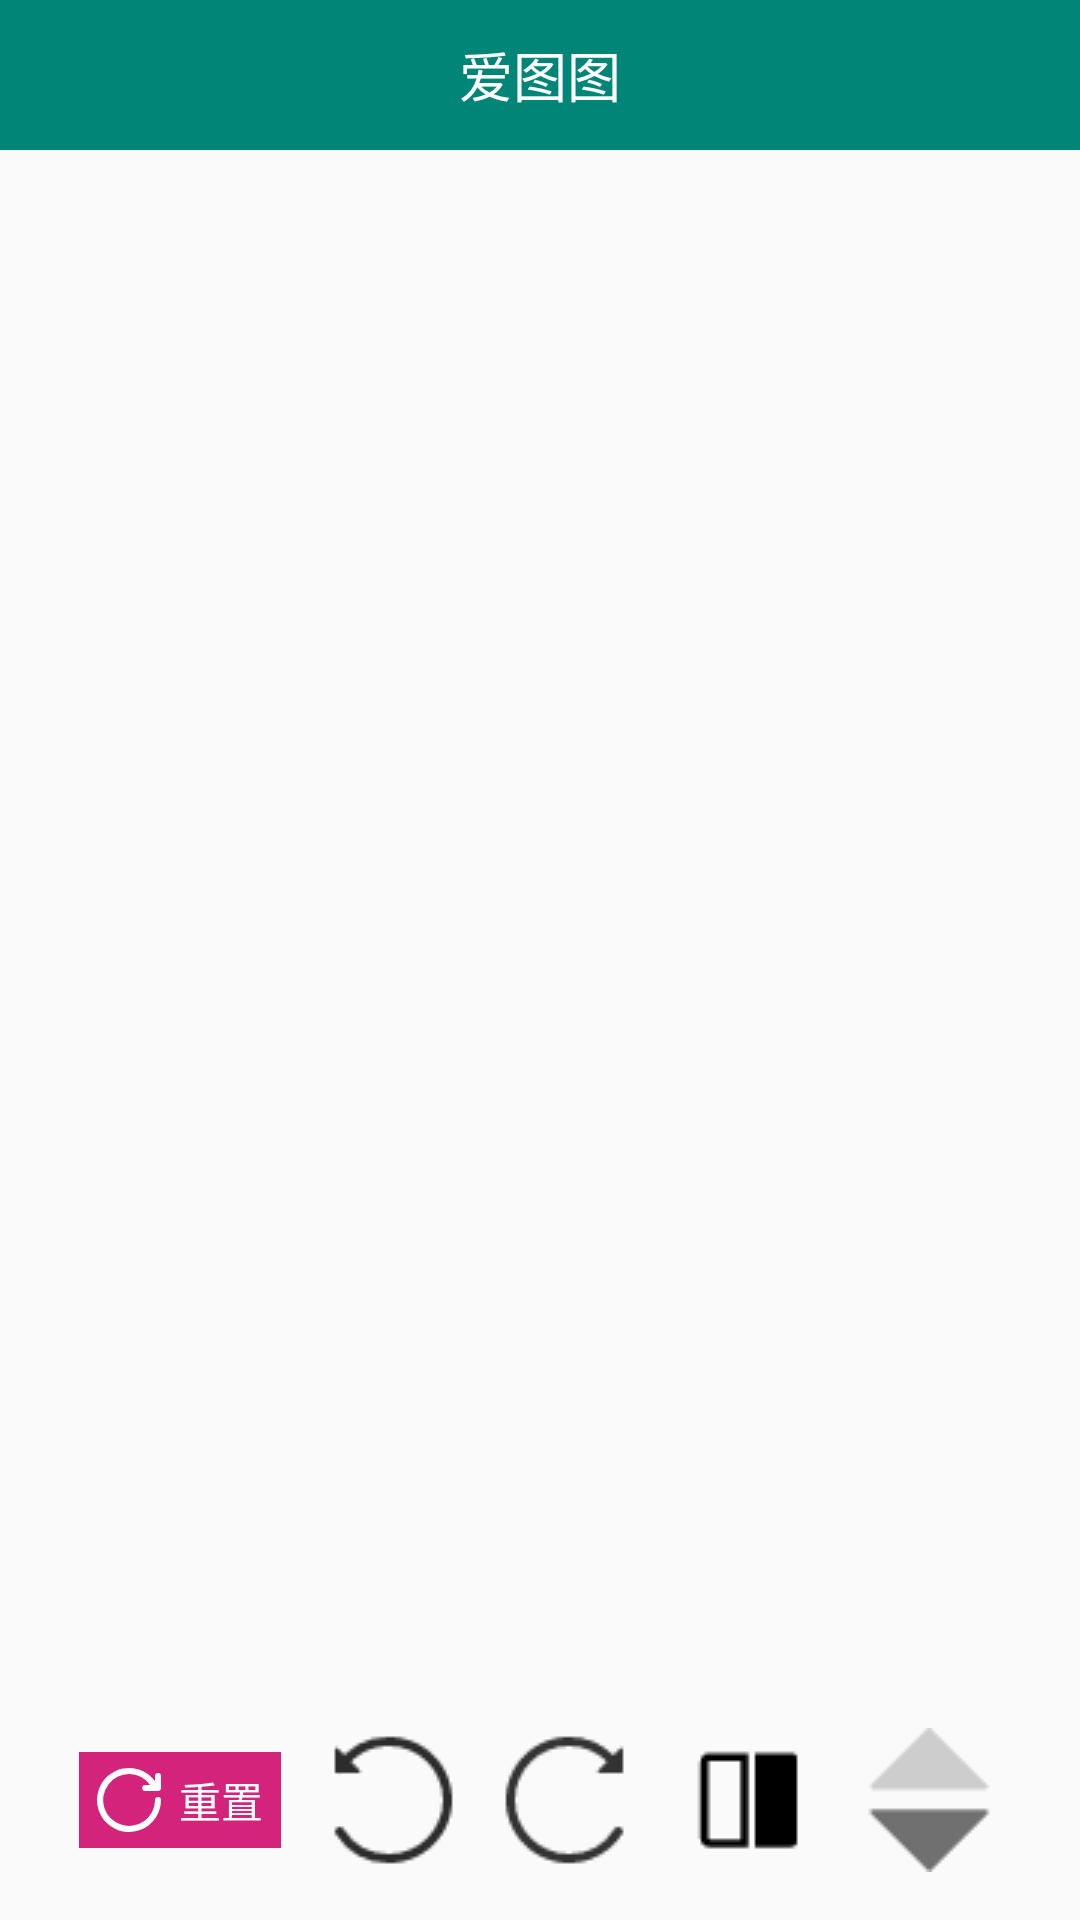

Screen size 1080 × 1920. Icon name, then its center in pixels as [x,y]:
revolve left: [393,1800]
revolve left right: [748,1800]
revolve right: [564,1800]
revolve top bottom: [929,1800]
